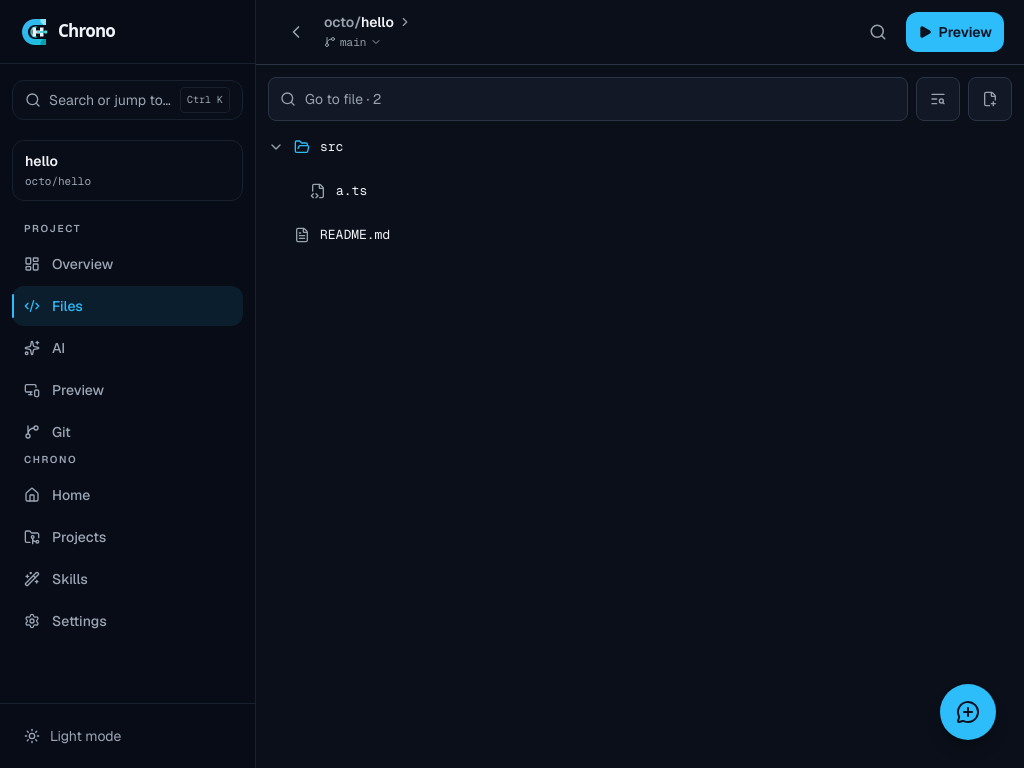
Test: GitHub workspace › loads the tree, opens a file, and switches branch
What coordinates should you click on to do the following:
click the button "README.md"
I would click on:
 (355, 234)
Its box is [268,225,984,245].
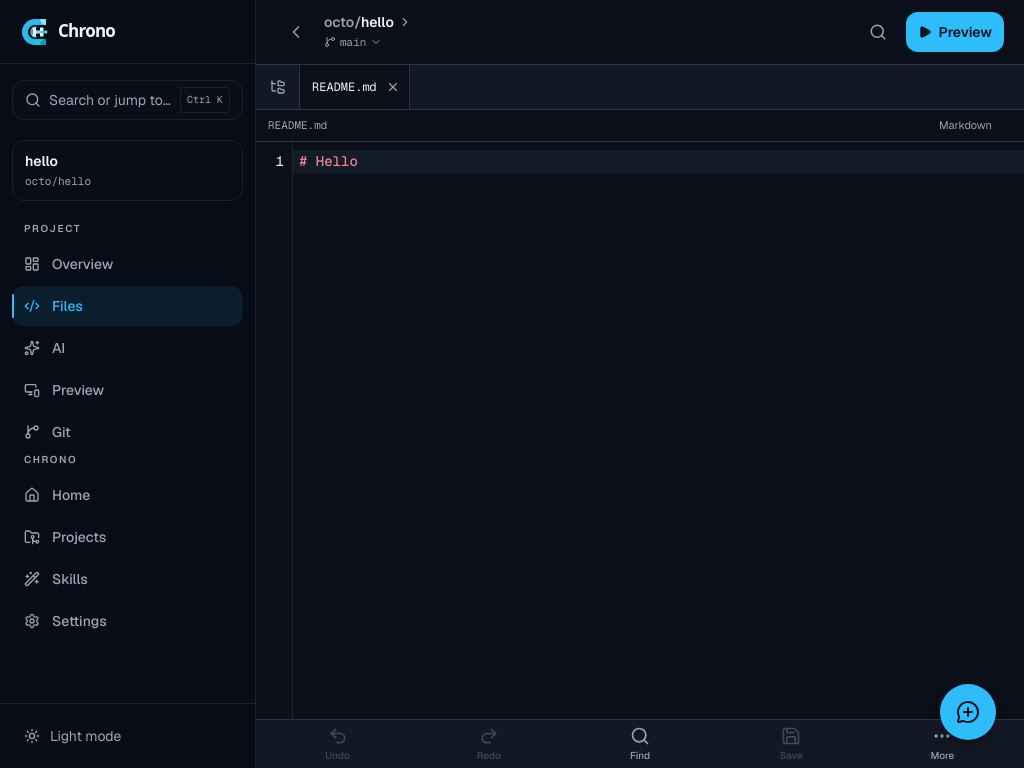
expect the element with test id "code-editor" shows "# Hello": met, box [299,152,358,170]
What coordinates should you click on to do the following:
click the button with test id "button-branch"
I would click on:
 (353, 42)
Its box is [320,32,386,52].
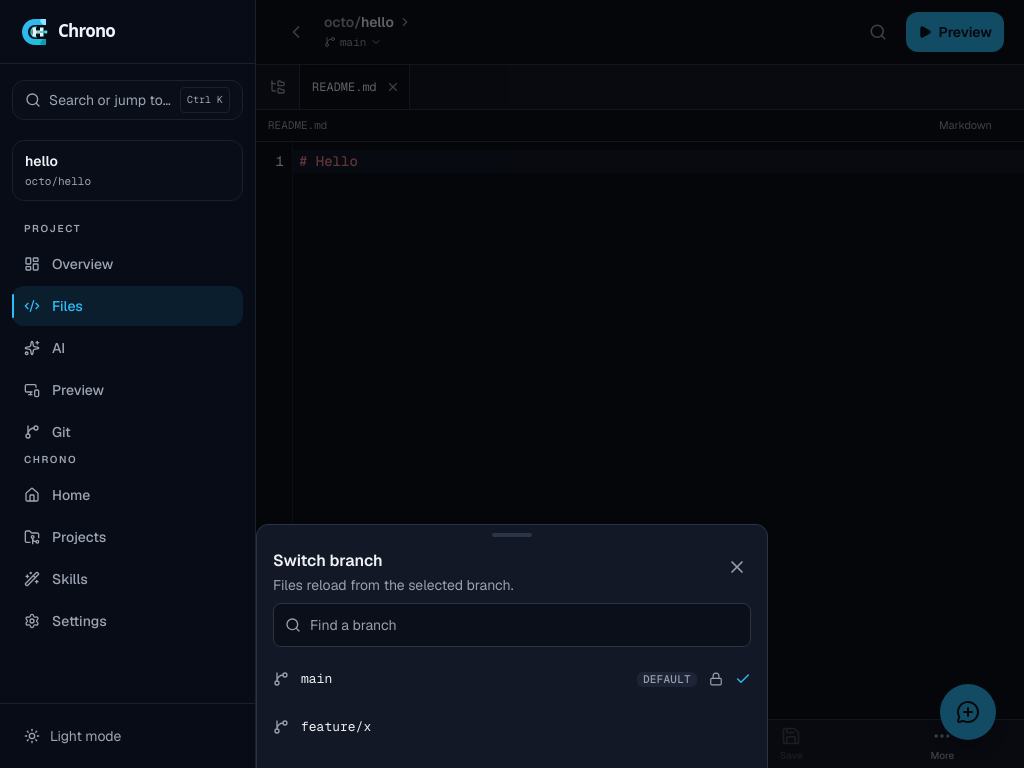
What coordinates should you click on to do the following:
click the button with test id "branch-feature/x"
I would click on:
 (336, 727)
Its box is [257,703,767,751].
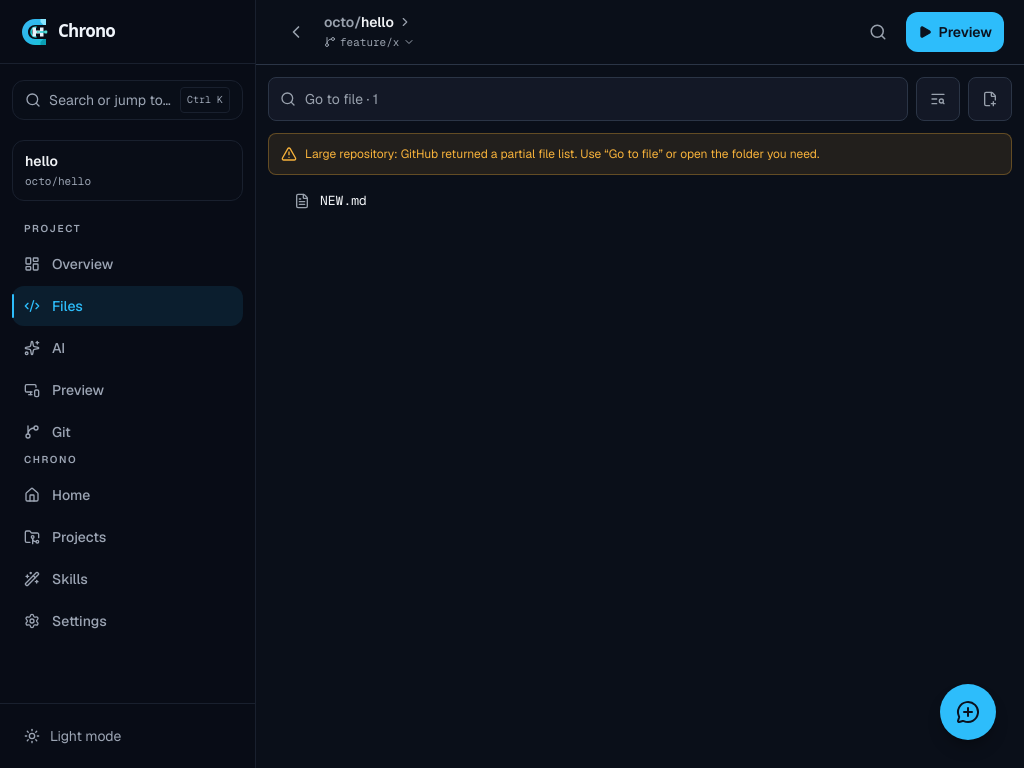
expect the text "NEW.md" is shown: met, box [320,191,367,211]
expect the text "partial file list" is shown: met, box [305,146,819,162]
expect the text with test id "text-branch" reads "feature/x": met, box [340,35,399,49]
